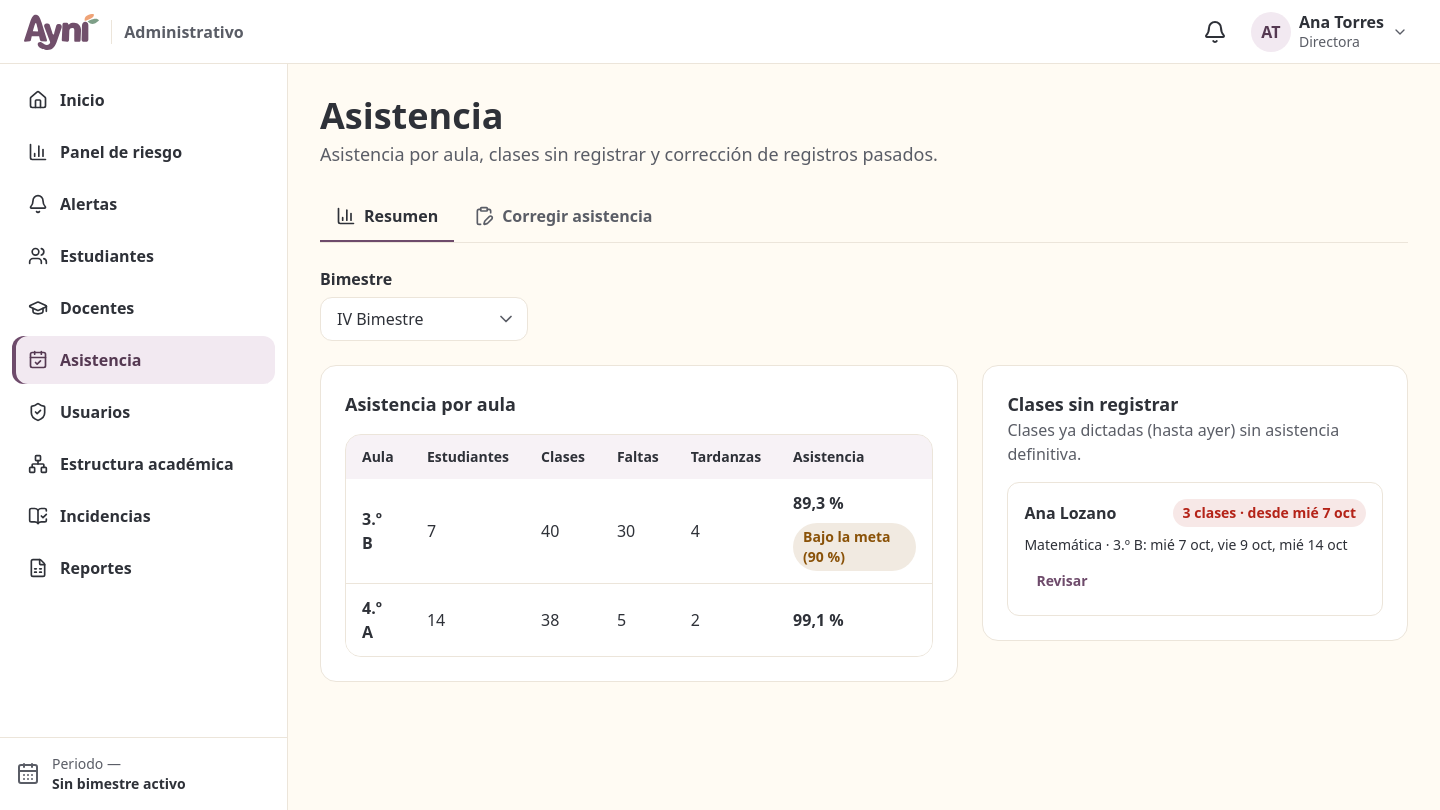
Asistencia del administrador (RF-35) › resume por aula, lista las clases sin registrar y abre la corrección
Expected: the text "89,3 %" is shown, [793,491,844,515]
Expected: the text "Ana Lozano" is shown, [1024,501,1116,525]
Click the button with aria-label "Revisar Matemática · 3.º B": {"x": 1062, "y": 581} [1024,563,1100,599]
(page scrolled)
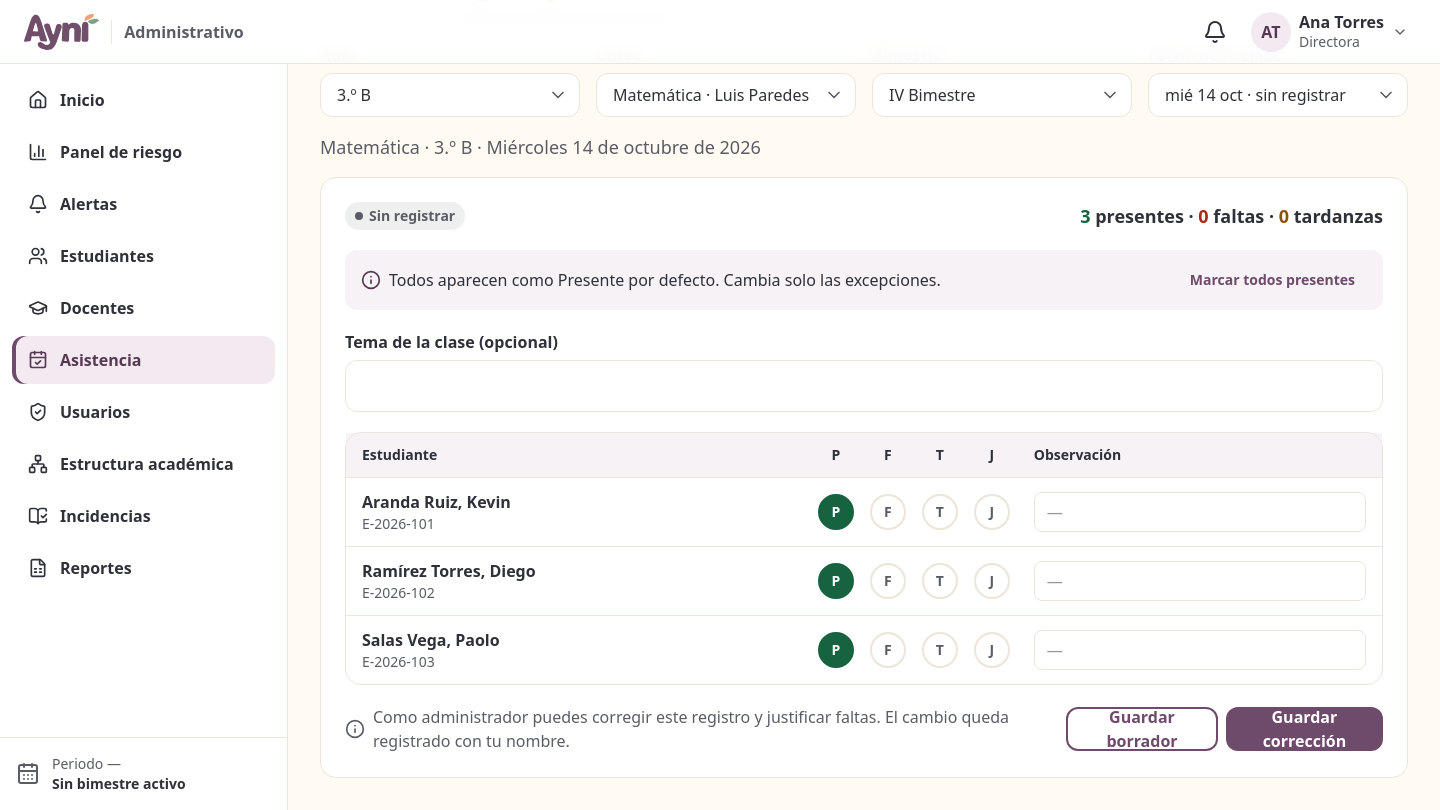
Now the text "Matemática · 3.º B · Miércoles 14 de octubre de 2026" is shown, box [320,135,761,159]
Now the button "Guardar corrección" is shown, box [1226,707,1383,751]
